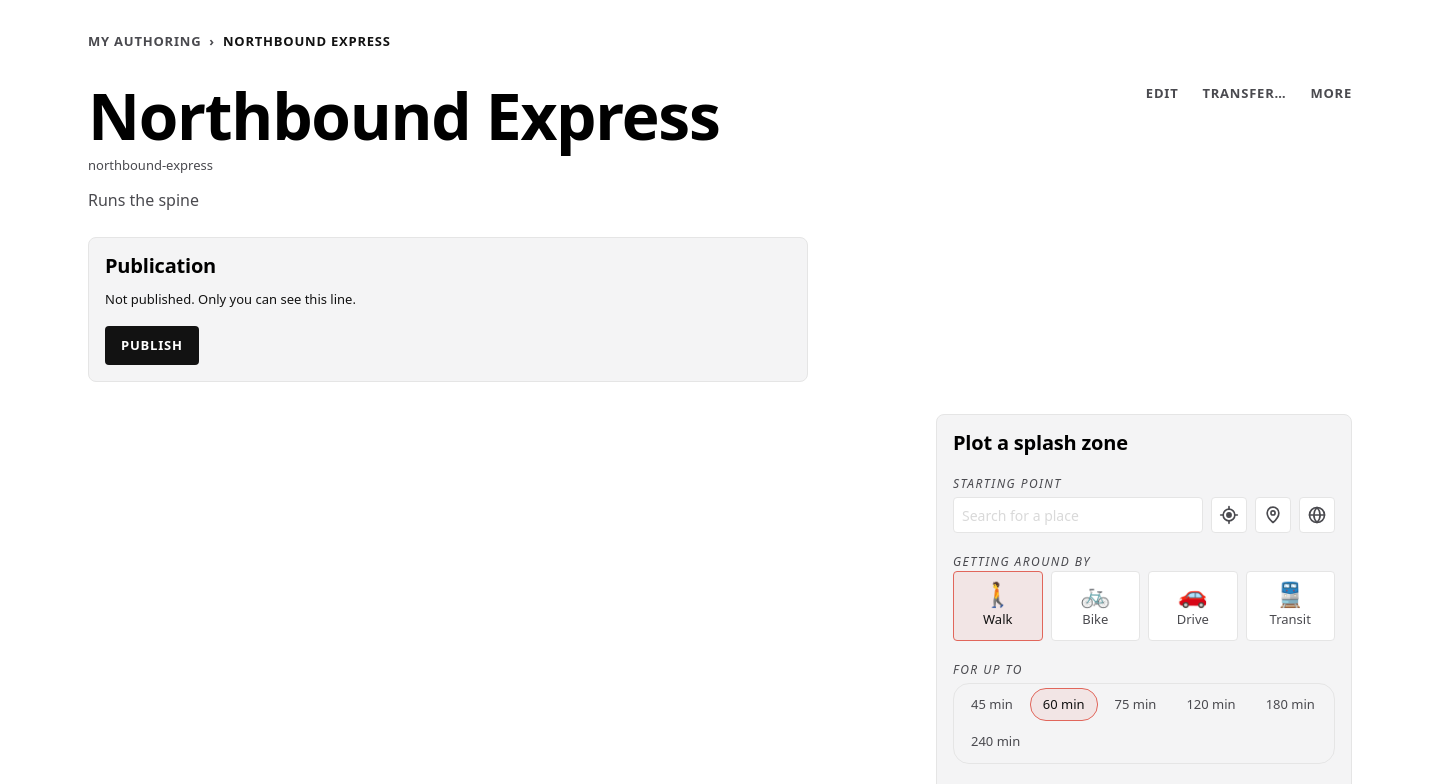
it: AuthoredServiceView › transferring the line › asks for their email and says plainly what a transfer does
Click the button with test id "offer-handover" at coordinates (1244, 93), box [1202,84,1286,103]
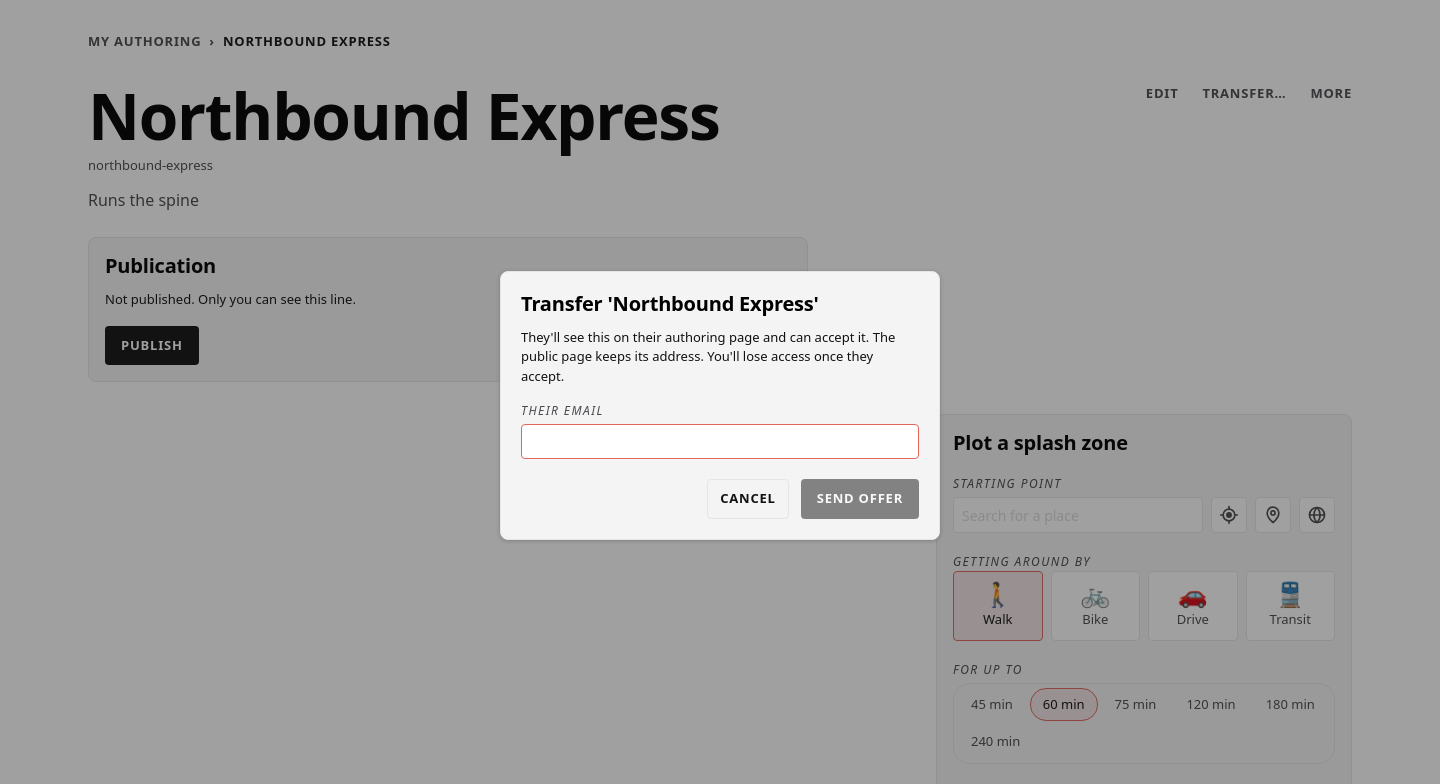
Check: the dialog with test id "confirm-dialog" shows "They'll see this on their authoring page and can accept it. The public page keeps its address. You'll lose access once they accept.", box [521,328,895,384]
